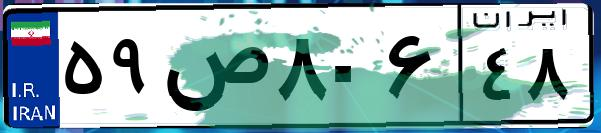0: (330, 28, 385, 110)
4: (475, 38, 525, 113)
5: (57, 26, 110, 100)
6: (385, 28, 445, 110)
8: (270, 28, 330, 110), (525, 38, 570, 115)
9: (110, 28, 158, 98)
ص: (158, 20, 270, 120)
